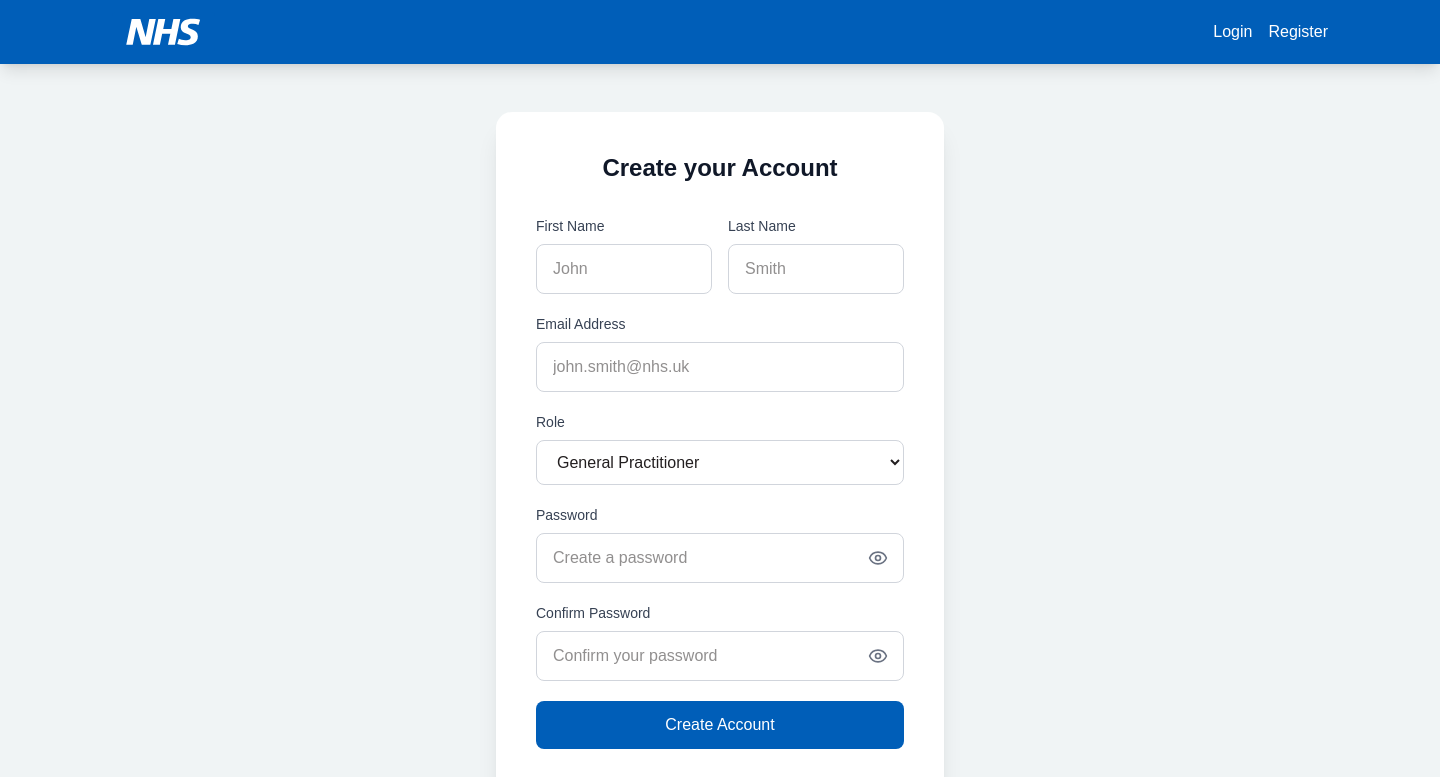
Test: RegisterPage › shows field validation errors for missing names, invalid email, and short password
Expected: the button "Create Account" is shown, [536,701,904,749]
Type "invalid-email" into the field labelled "Email Address" at (720, 367), box [536,342,904,392]
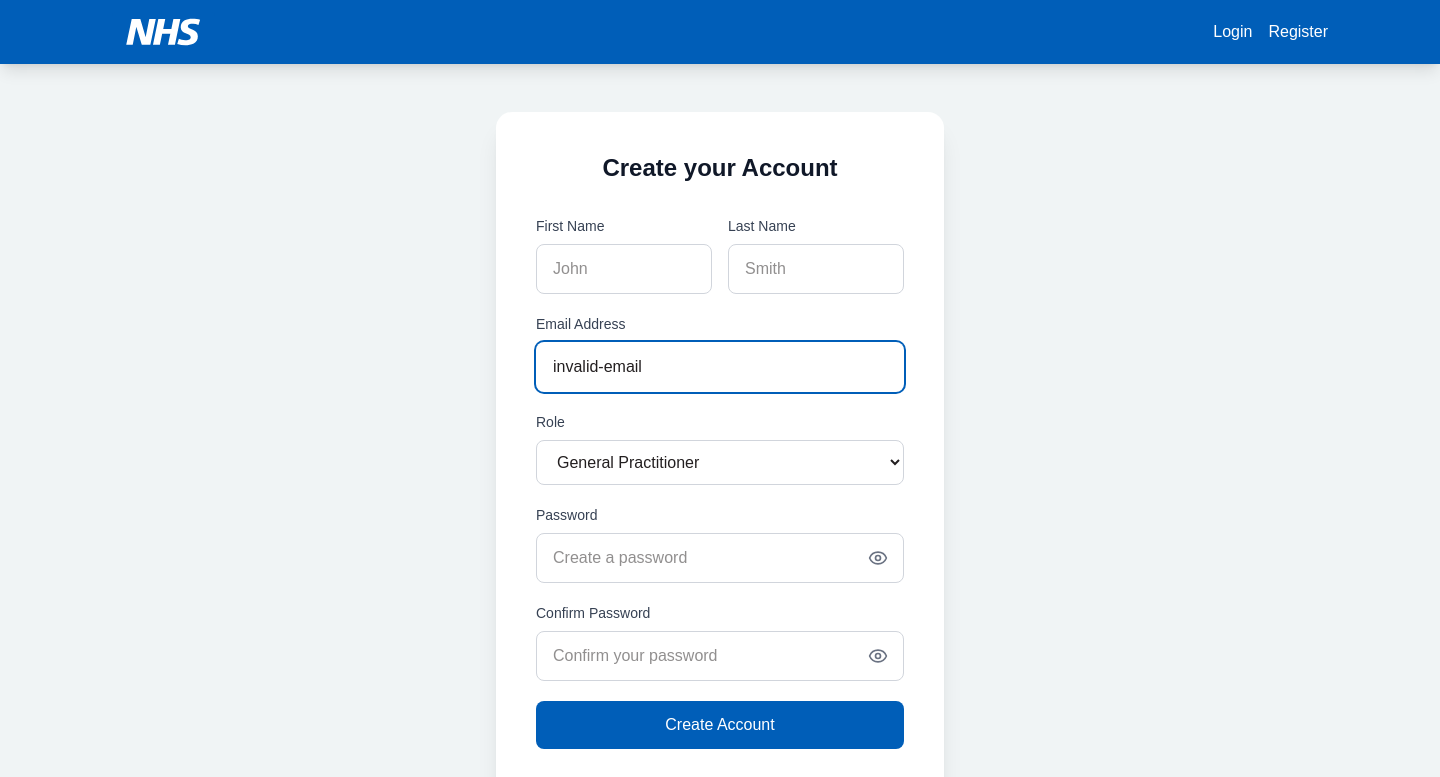
Type "short" into the password field labelled "Password" at (720, 558), box [536,533,904,583]
(page scrolled)
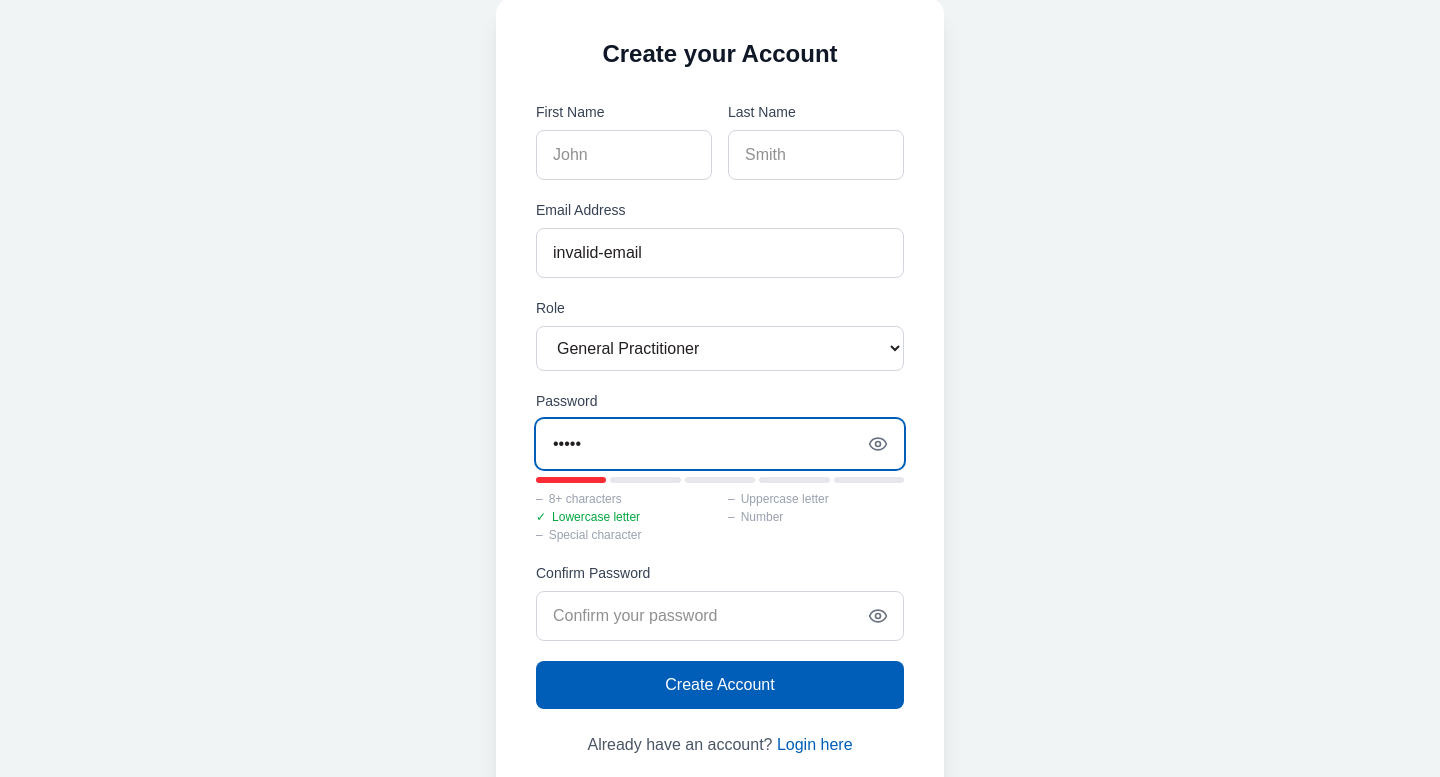
Submit the form named "create account", box [536,102,904,709]
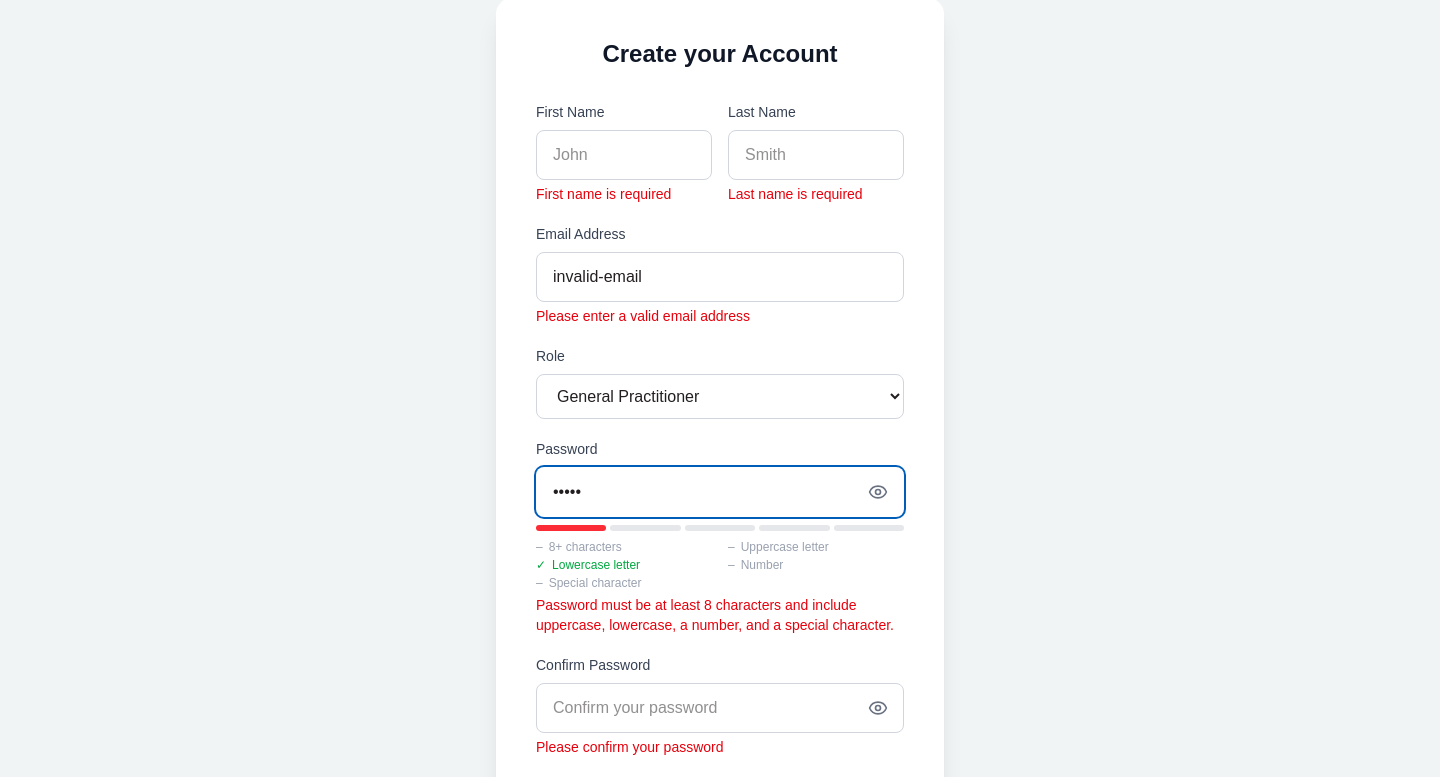
Expected: the text "First name is required" is shown, [536,186,671,202]
Expected: the text "Last name is required" is shown, [728,186,863,202]
Expected: the text "Please enter a valid email address" is shown, [536,308,750,324]
